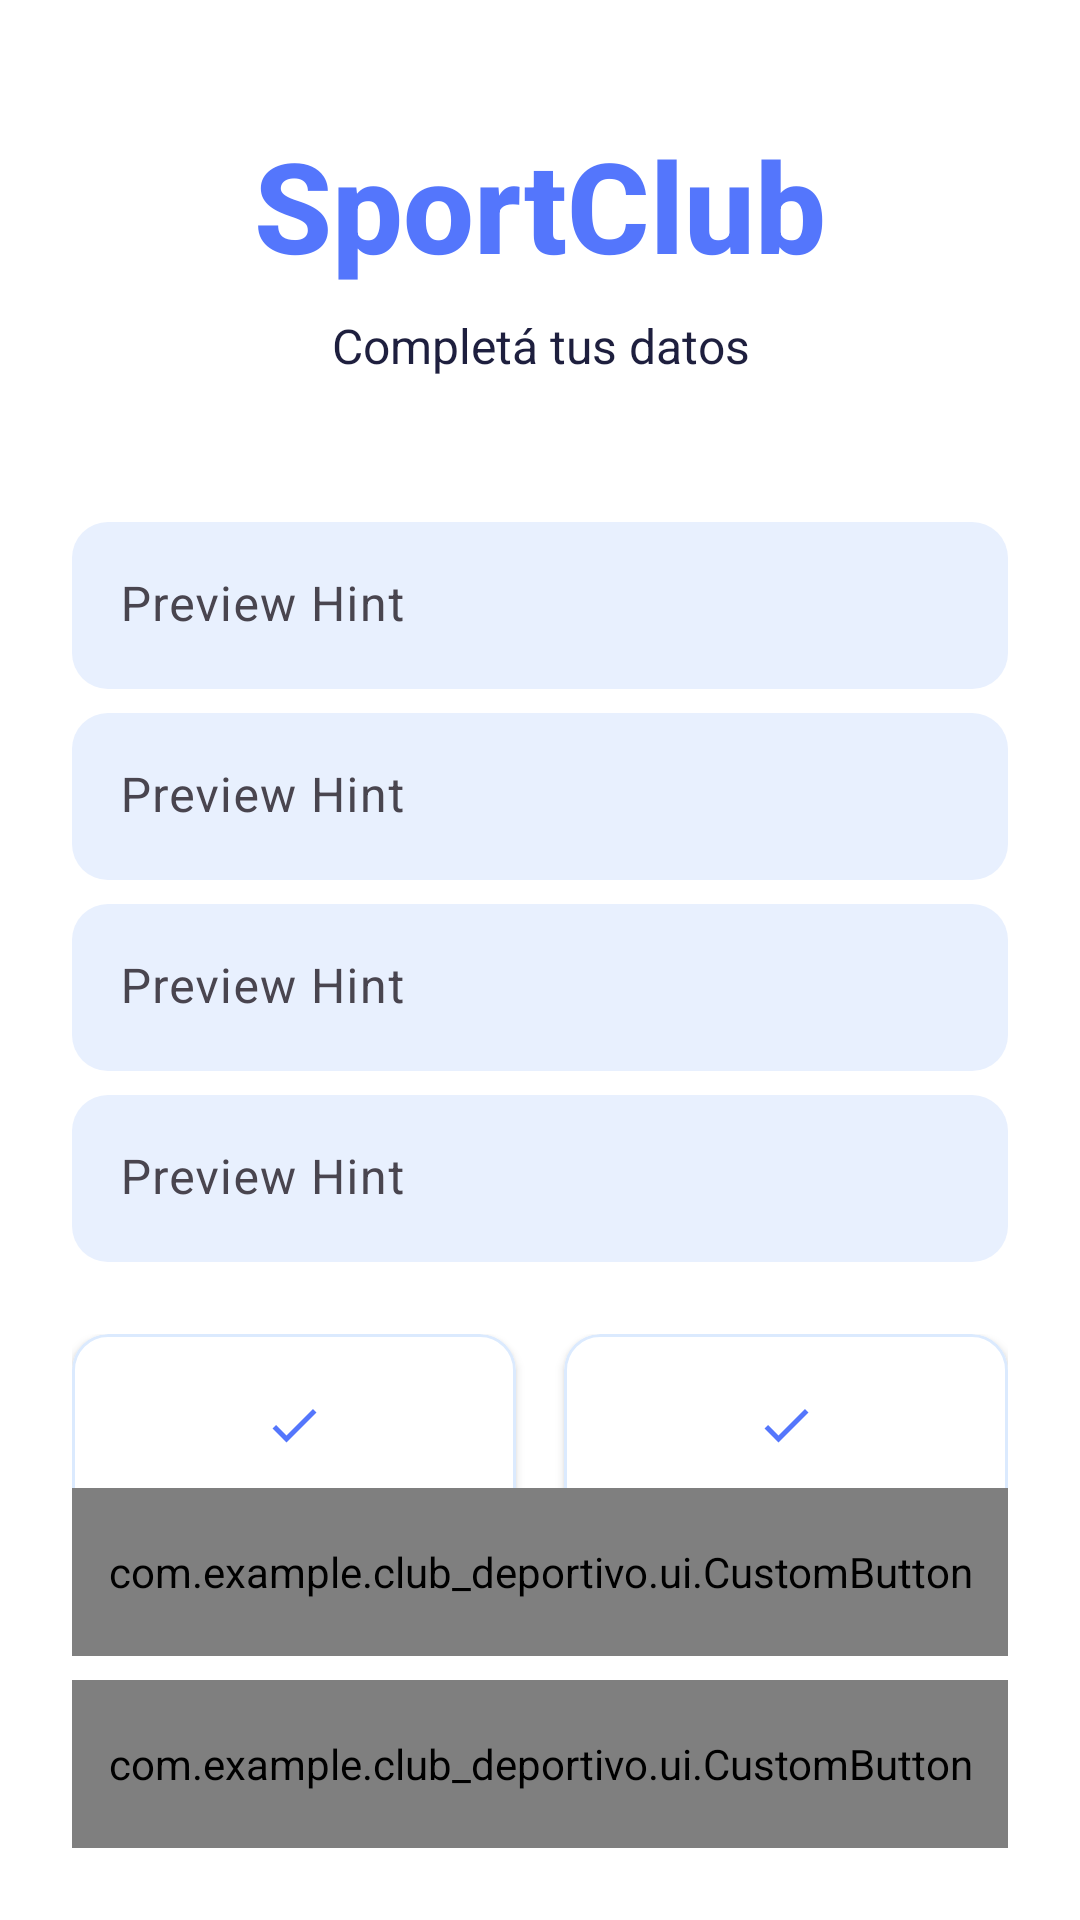

Icons on this 1080 × 1920 Android screen, each with the point to tap as (x,y):
check: (294,1426), (786,1426)
